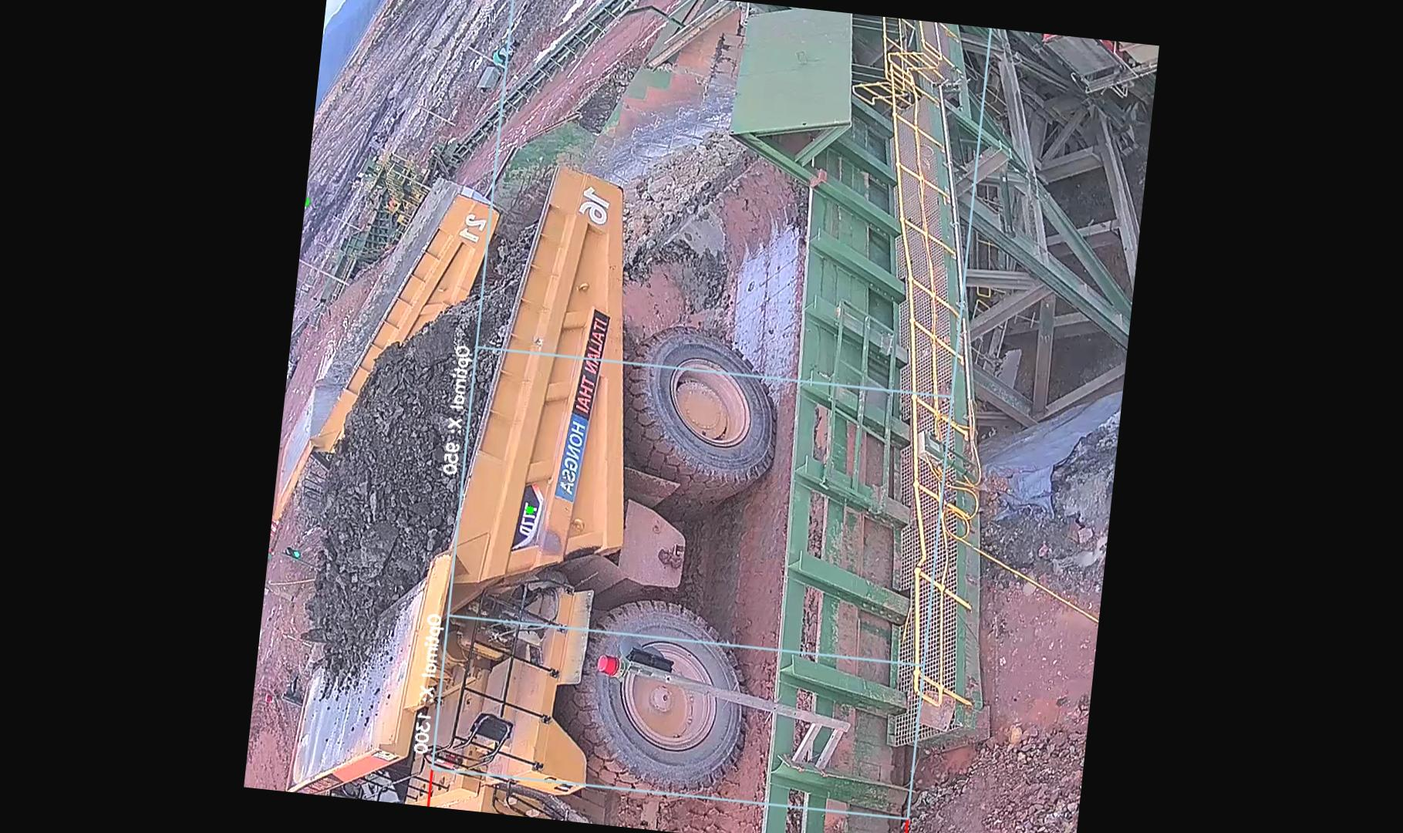company: (553, 298, 613, 521)
full_load: (304, 309, 502, 613)
mining_truck: (263, 134, 803, 833)
tail_number: (572, 181, 622, 233)
truck_size: (509, 479, 547, 557)
